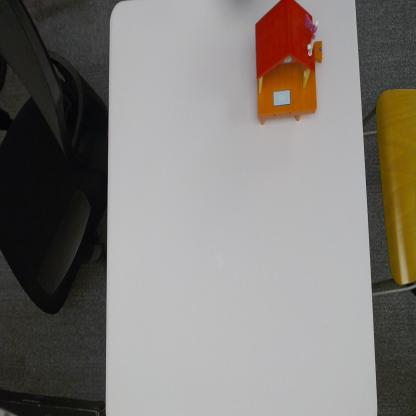House: (256, 0, 323, 126)
